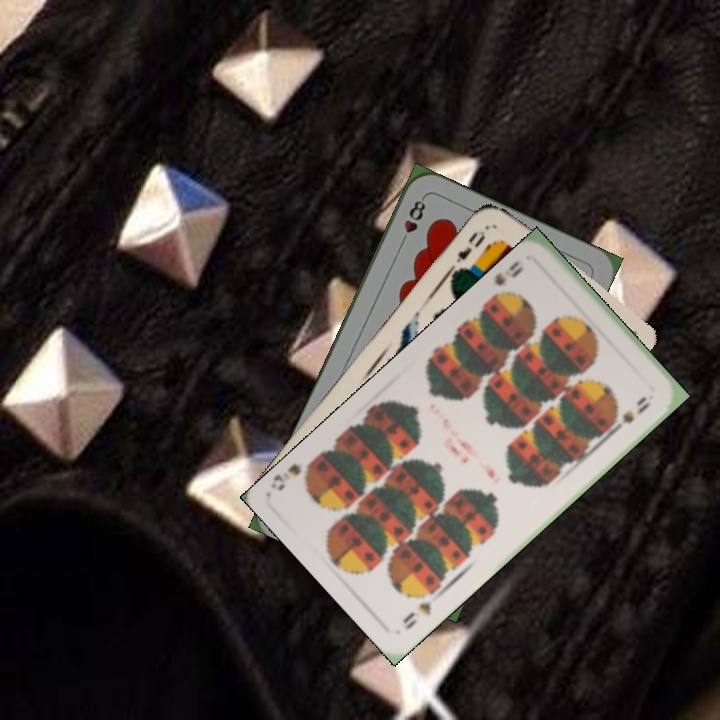EO: (452, 226, 488, 275)
H8: (396, 194, 428, 250)
S9: (486, 262, 526, 301), (398, 596, 434, 633)
